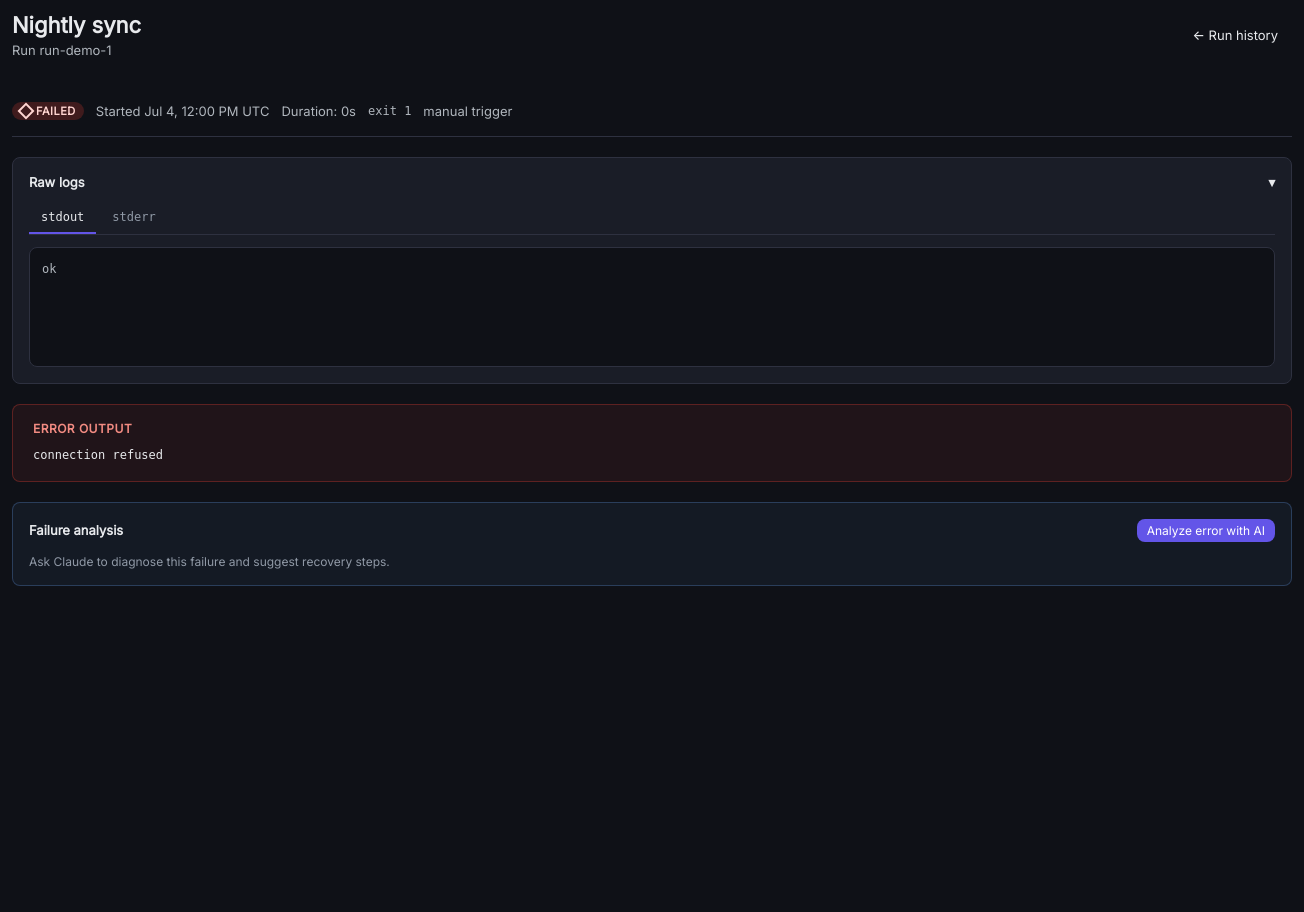
Test: RunDetail › keeps failure analysis conditional and actionable
Expected: the heading "Failure analysis" is shown, 29,522 -> 123,538
Click the button "Analyze error with AI": point(1206, 530) 1137,519 -> 1275,542
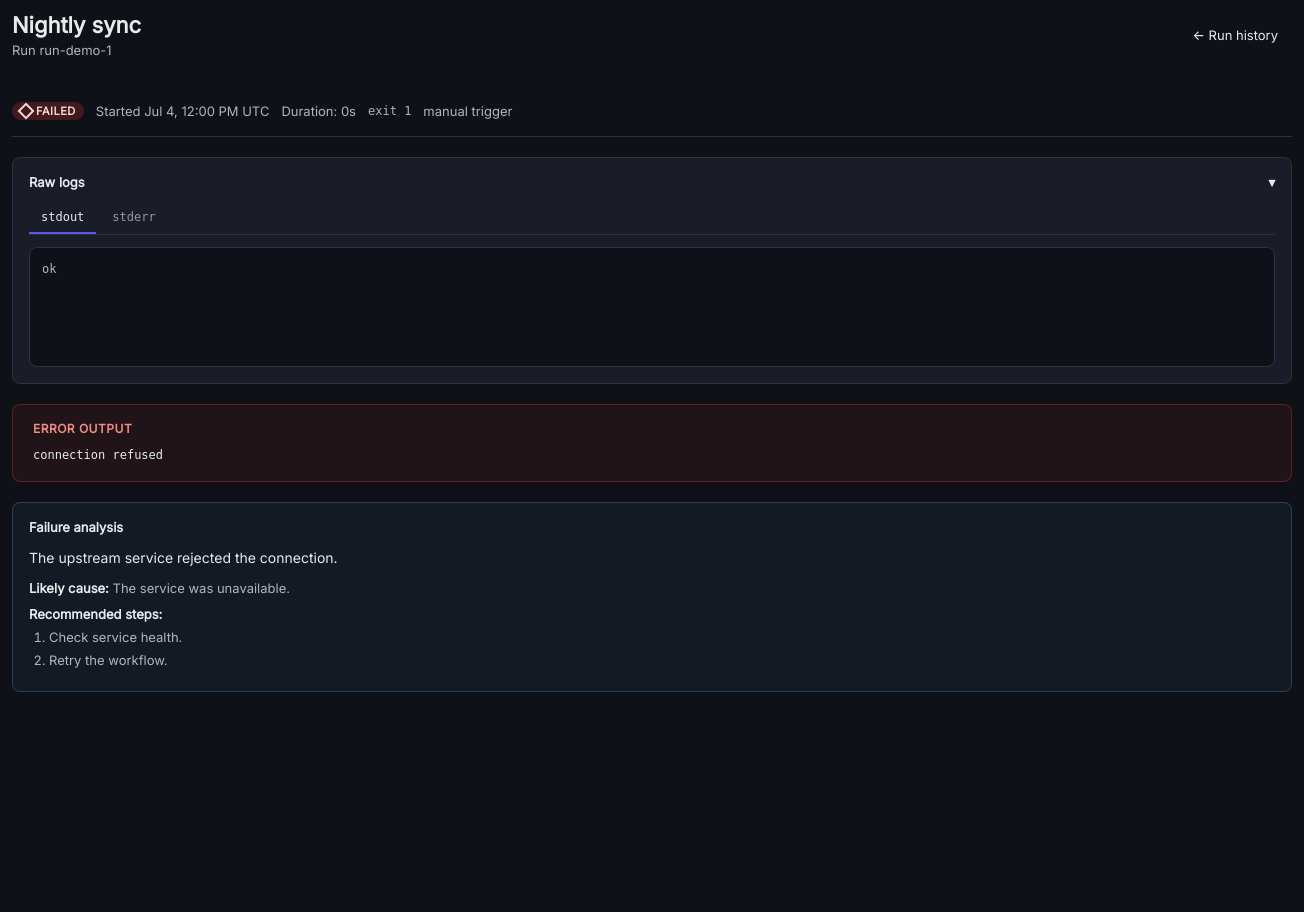
Result: the text "The upstream service rejected the connection." is shown at 29,549 -> 338,566
Result: the text "The service was unavailable." is shown at 112,580 -> 290,596
Result: the list item "Check service health." is shown at 49,629 -> 182,645
